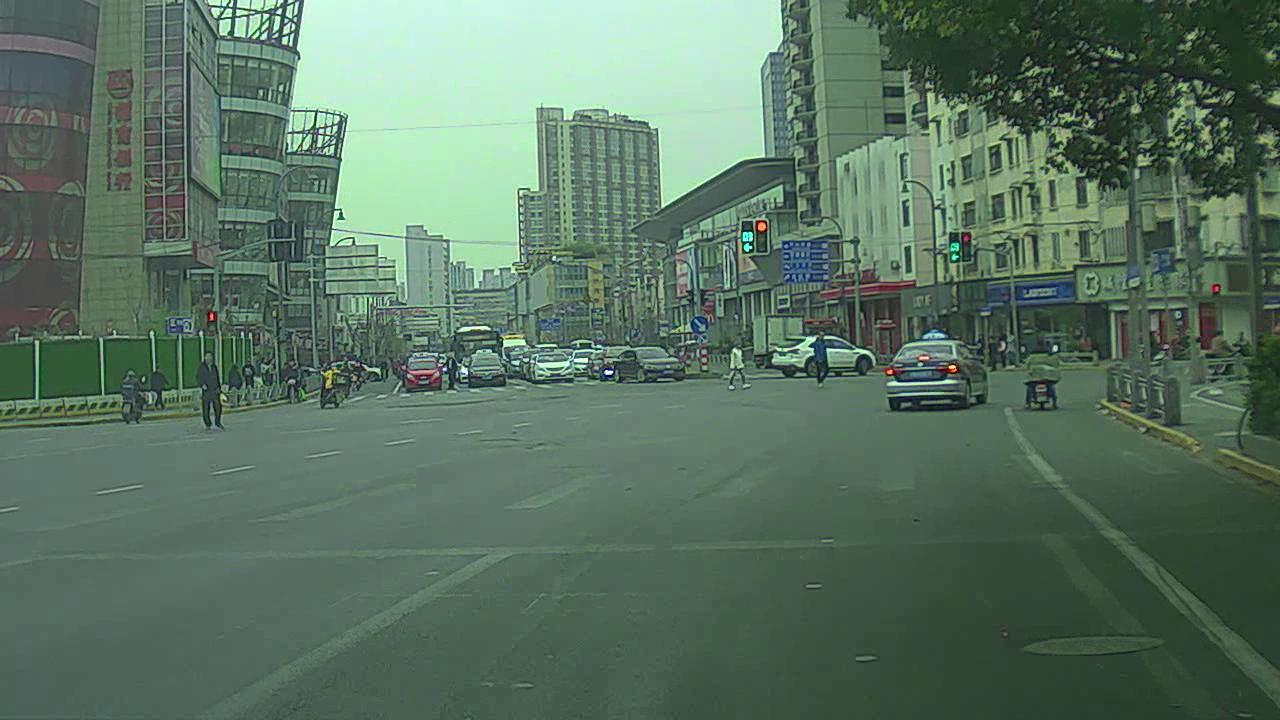traffic_light: (755, 219, 771, 256), (961, 227, 976, 261), (741, 219, 754, 255), (949, 232, 961, 265)
